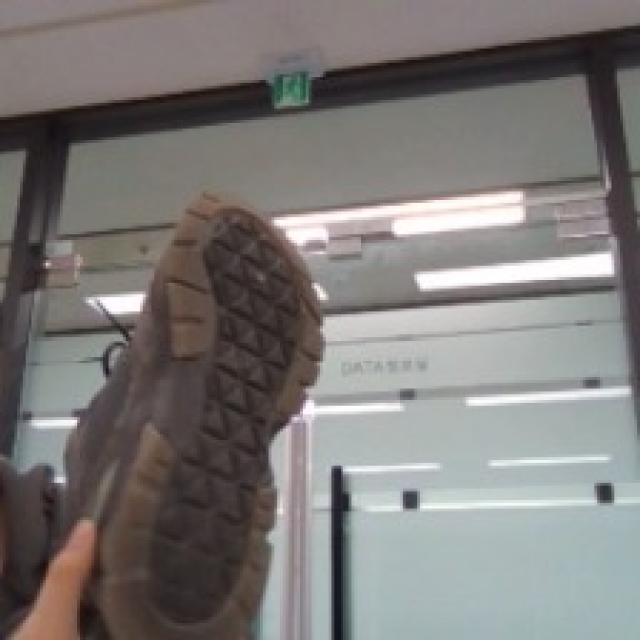shoe: (66, 166, 392, 622)
